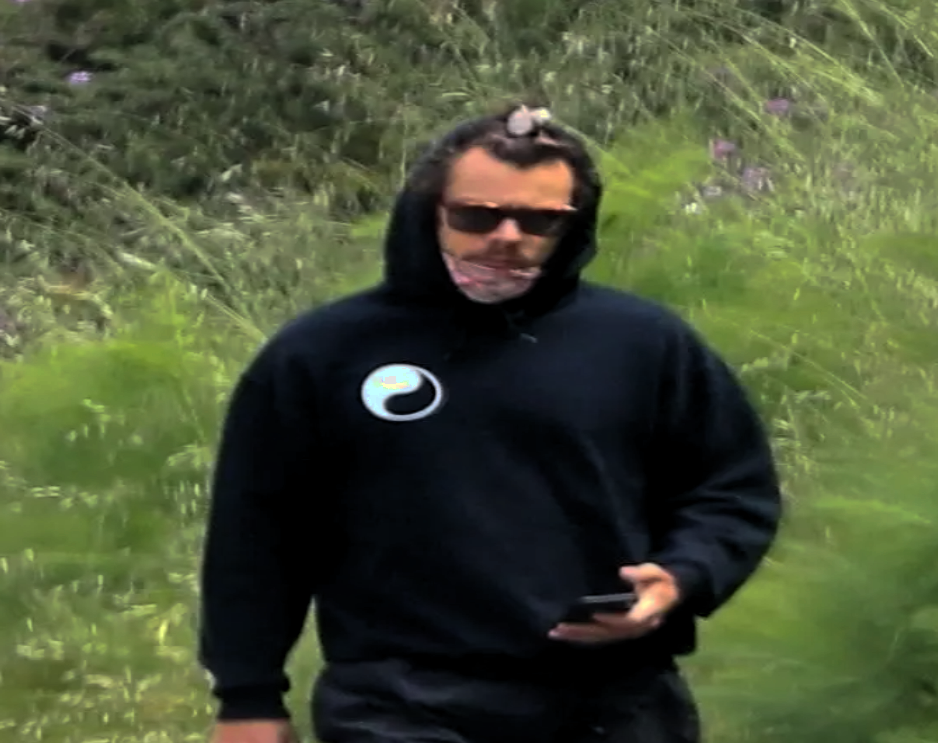mask_weared_incorrect: (408, 126, 600, 312)
